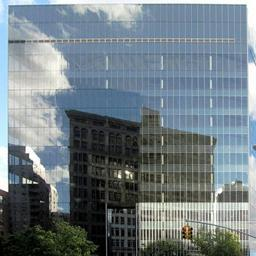building: (6, 0, 251, 256)
